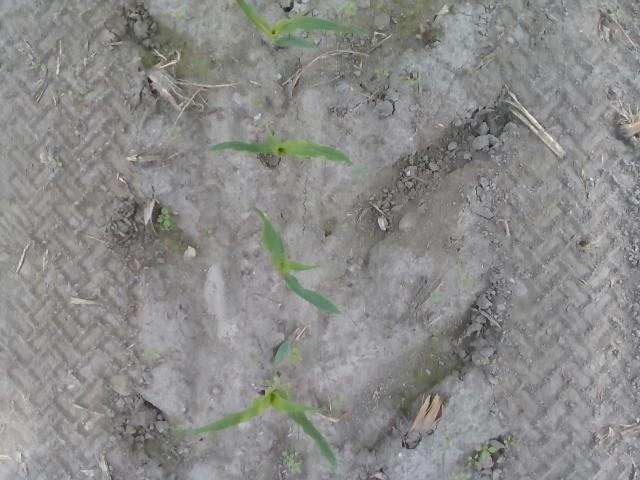Maize: (165, 334, 349, 474), (251, 202, 344, 320), (205, 118, 358, 168), (236, 0, 368, 50)
Weeds: (280, 450, 302, 474), (156, 206, 174, 232), (476, 440, 496, 462), (336, 0, 355, 16), (331, 392, 346, 412), (288, 346, 304, 364), (404, 71, 422, 86), (164, 125, 183, 138), (373, 66, 390, 80), (173, 7, 192, 19), (249, 351, 262, 368), (146, 350, 164, 362), (456, 277, 474, 289), (452, 471, 474, 480), (466, 454, 480, 468), (250, 95, 265, 108), (52, 154, 64, 168), (504, 434, 514, 450), (202, 224, 214, 236), (430, 292, 440, 301), (200, 58, 210, 66), (79, 410, 88, 416)
